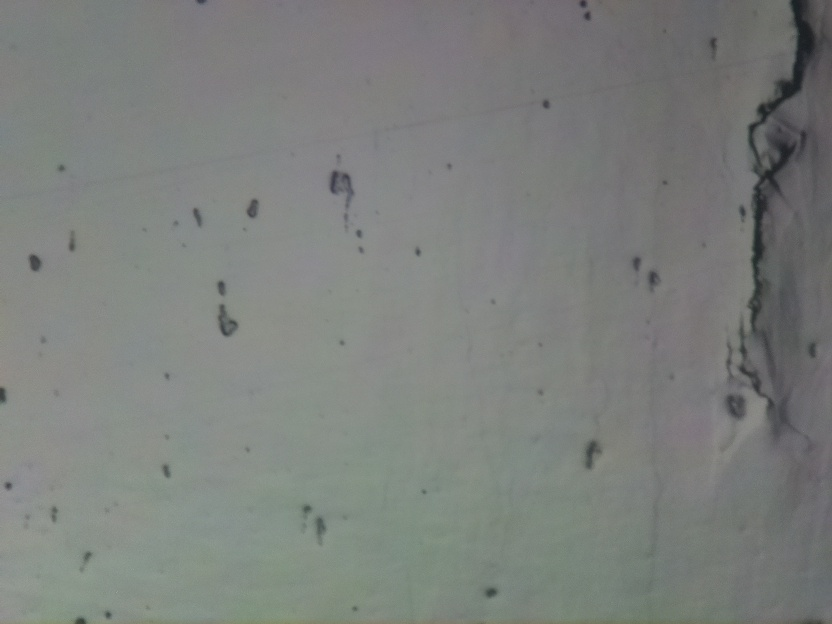crack: (746, 0, 815, 321)
